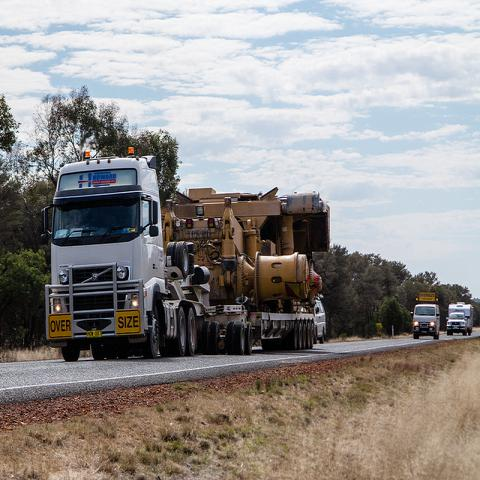car: (314, 301, 326, 342)
truck: (43, 146, 330, 366), (412, 297, 440, 340), (447, 301, 474, 337)
